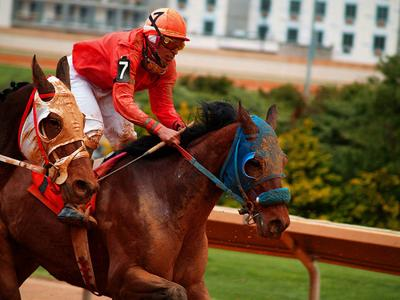person: (56, 7, 194, 230)
